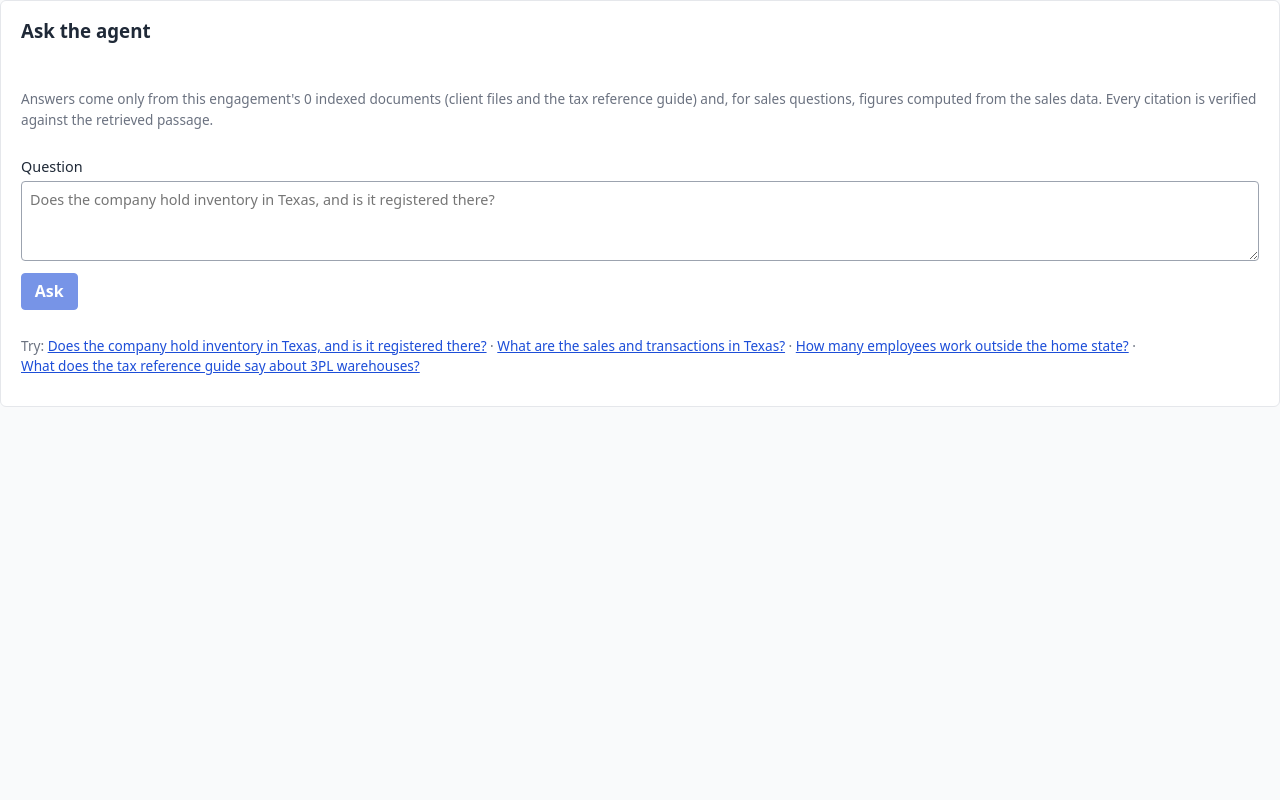
AskStep › asks a question and renders the answer, verified citations, passages and guard notes
Type "Does the company hold inventory in Texas?" into the text box labelled "Question" at x=640, y=221, box [21,181,1259,261]
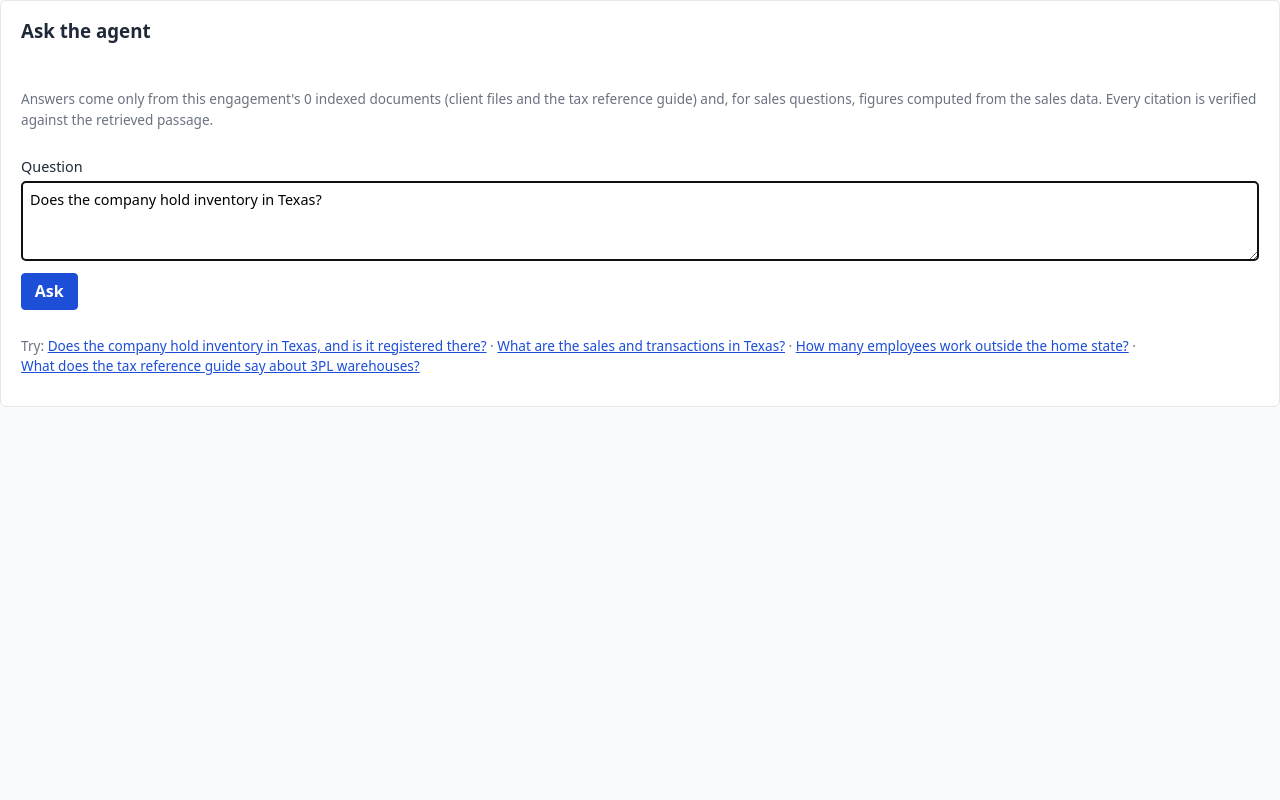
Click the button "Ask" at x=49, y=292, box [21,273,78,310]
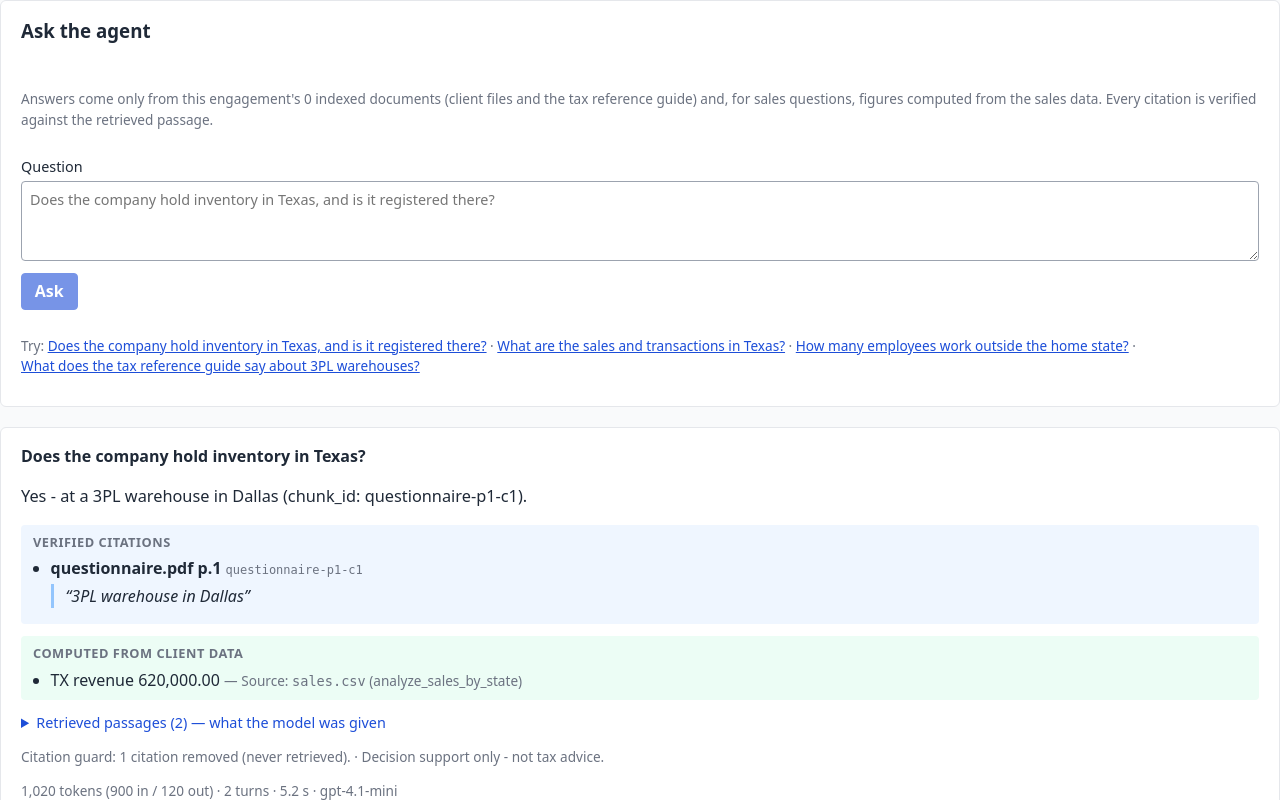
Expected: the text "Yes - at a 3PL warehouse" is shown, [21,485,527,507]
Expected: the text "questionnaire.pdf p.1" is shown, [51,557,221,579]
Expected: the text "“3PL warehouse in Dallas”" is shown, [51,584,1247,608]
